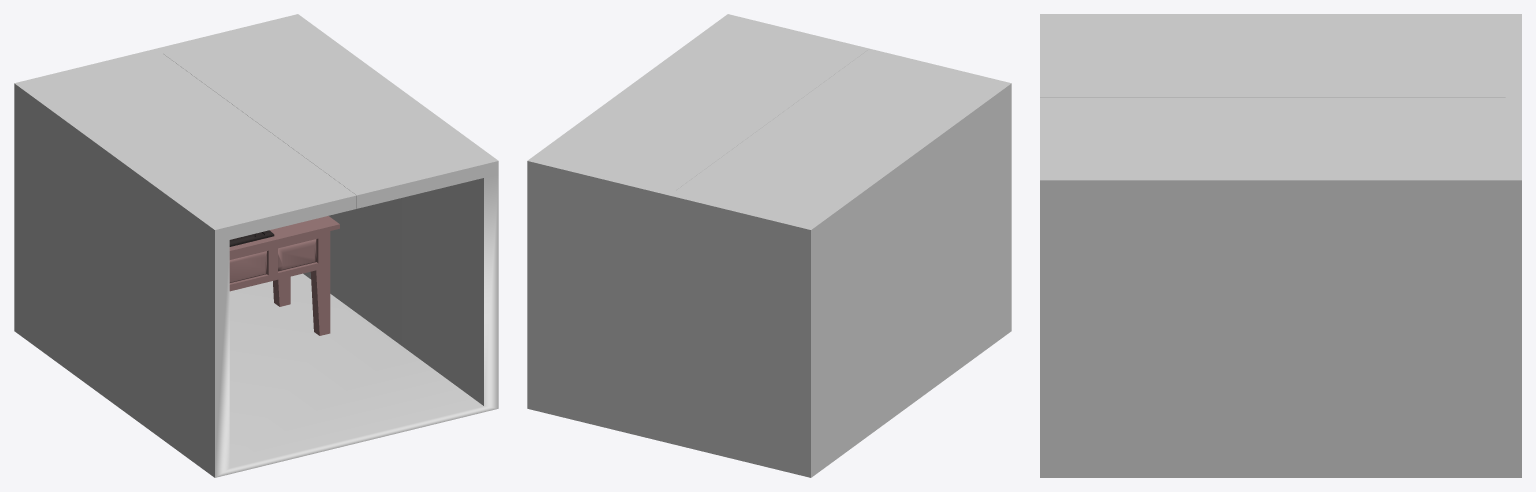
The picture shows the model from 3 angles, left to right: view 1: azimuth 30°, elevation 25°; view 2: azimuth 150°, elevation 25°; view 3: azimuth 270°, elevation 25°; orthographic projection. The views are drawn at different scales.
Visible parts, largest first — view 1: pCube4, des; view 2: pCube4; view 3: pCube4.
Boxes of the visible parts, box(x1,y1,x2,y2) form: pCube4: box(14, 14, 498, 477); des: box(229, 216, 339, 335); pCube4: box(527, 14, 1011, 477); pCube4: box(1040, 14, 1521, 477).
Size of the model in its own units: 13.97 by 11.65 by 17.1.
